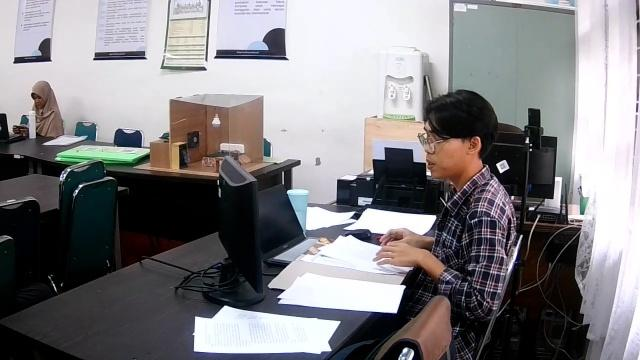AIO PC-Monitor-TV: (201, 155, 264, 306)
Dispenser: (376, 45, 428, 122)
